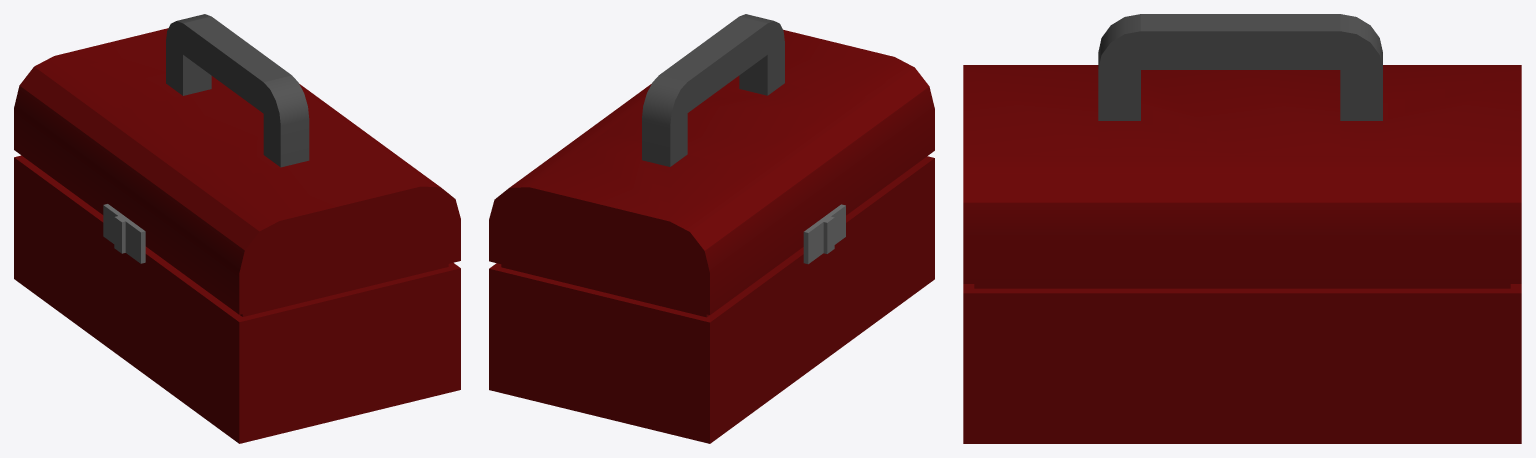
The model's file is toolbox.fbx.
3 views of the same model, side by side, from view 1: azimuth 30°, elevation 25°; view 2: azimuth 150°, elevation 25°; view 3: azimuth 270°, elevation 25° (orthographic). The views are drawn at different scales.
Parts seen in each view (by area): view 1: polySurface1, polySurface2, pCube2; view 2: polySurface1, polySurface2, pCube2; view 3: polySurface1, polySurface2.
Part boxes in pixels (<box>): polySurface1: <box>14,28,460,443</box>; polySurface2: <box>166,14,309,167</box>; pCube2: <box>103,204,145,263</box>; polySurface1: <box>489,29,934,443</box>; polySurface2: <box>642,14,784,166</box>; pCube2: <box>803,204,845,264</box>; polySurface1: <box>963,65,1521,443</box>; polySurface2: <box>1098,14,1382,120</box>.
Bounding box in the file's own units: 5.91 × 7.01 × 10.02.
